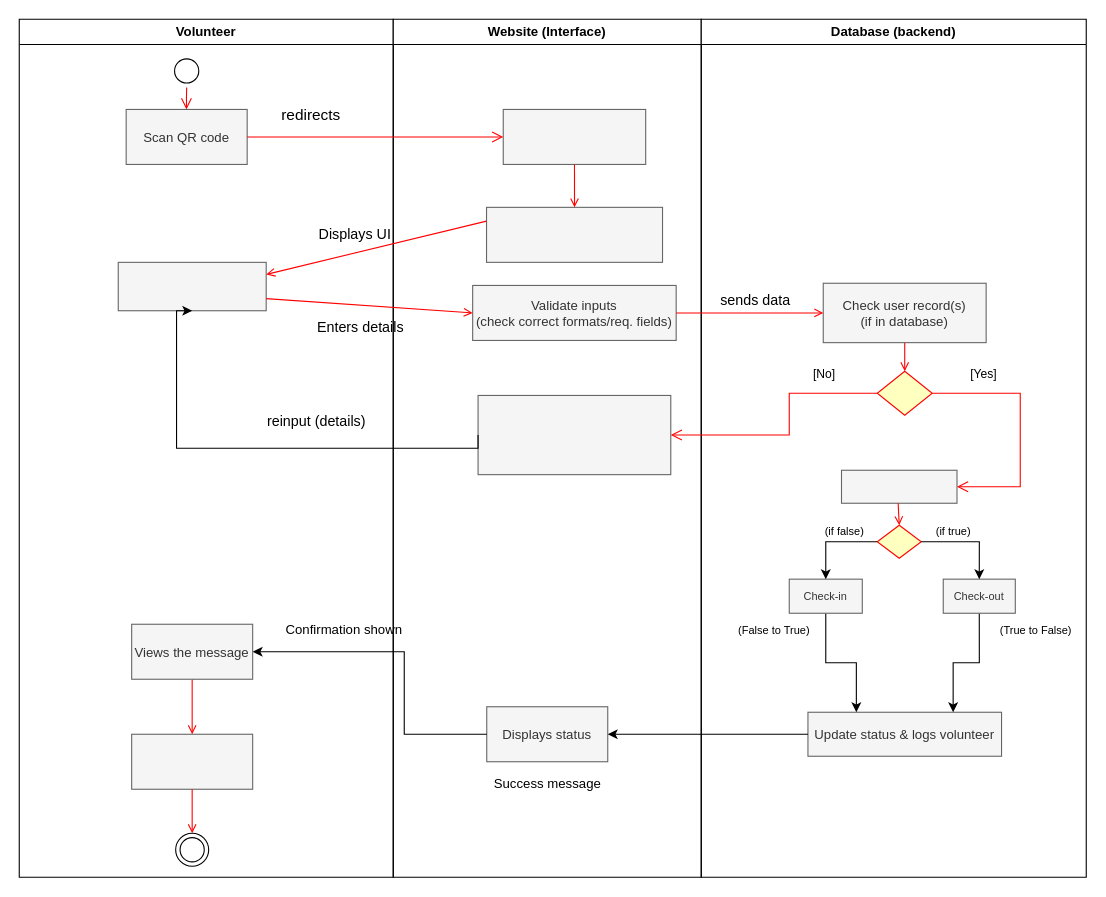
The diagram is 1106 pixels wide and 897 high, and some of its shapes have lost their labels. The shapes that lost their labels are listed below. From the top down, each one's box as (x1, y1, x2, y2) in pixels, then its label:
(502, 108, 646, 164): Generated to Link (check-in/out page)
(485, 206, 663, 262): Prompts input for verification (e.g. email address)
(117, 261, 266, 311): Sees updated page
(477, 394, 671, 475): Reveals prompt "Not in system/Email not found"
(840, 469, 957, 503): Check status
(131, 733, 253, 789): Exit Website/Phone
